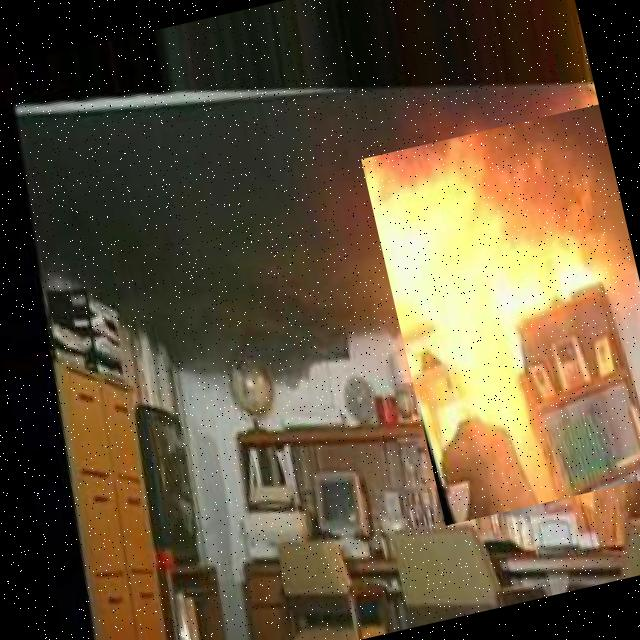fire: (361, 104, 640, 525)
